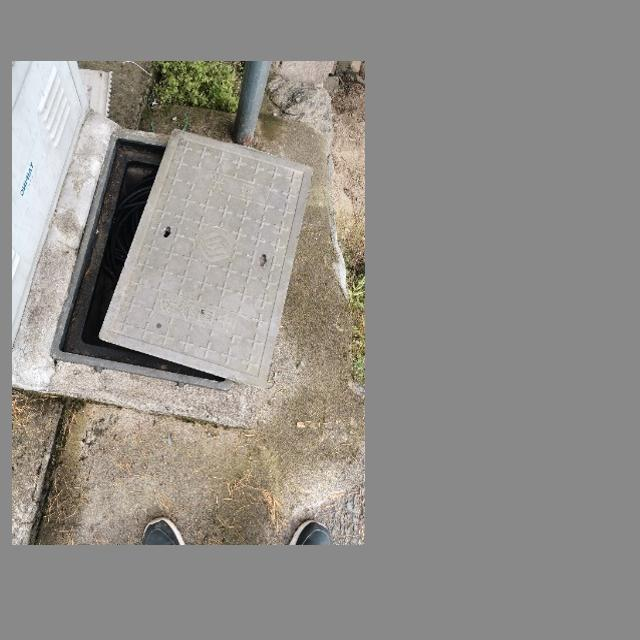uncovered: (50, 126, 313, 396)
